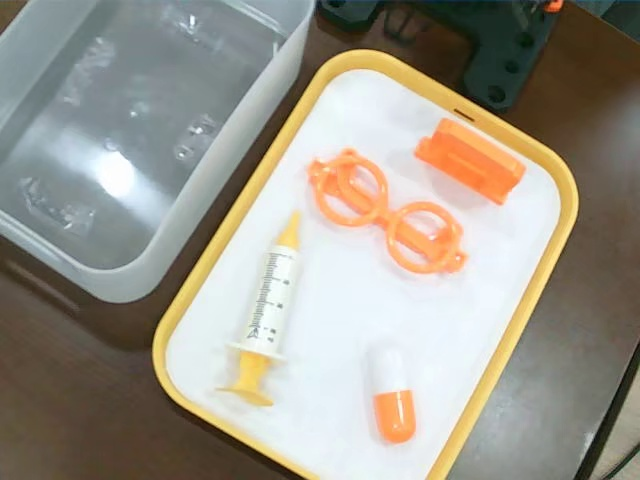pill: (362, 338, 424, 445)
syringe: (214, 207, 304, 410)
